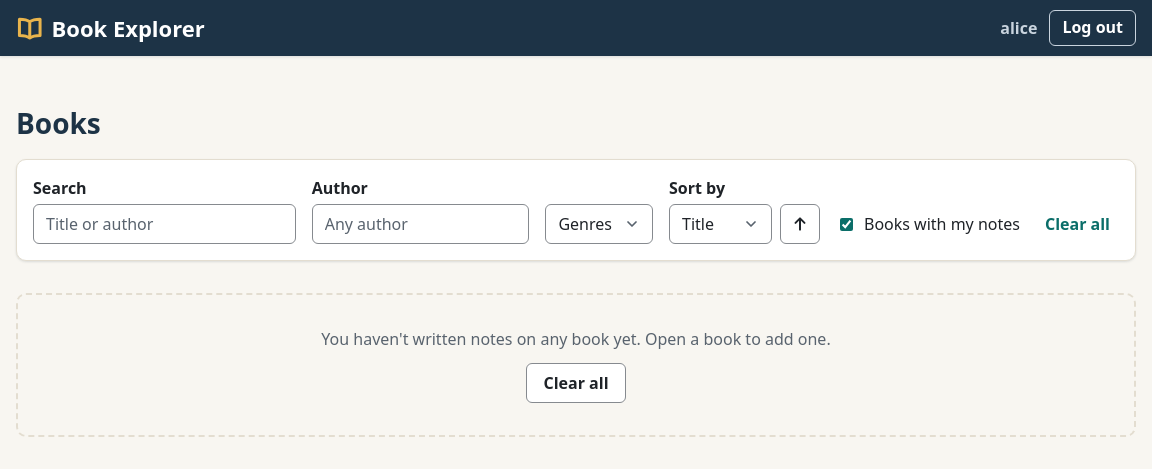
a reader with no notes who lists only noted books is told how to add one
Click the 2nd button "Clear all" at point(576, 383), box [526, 363, 626, 403]
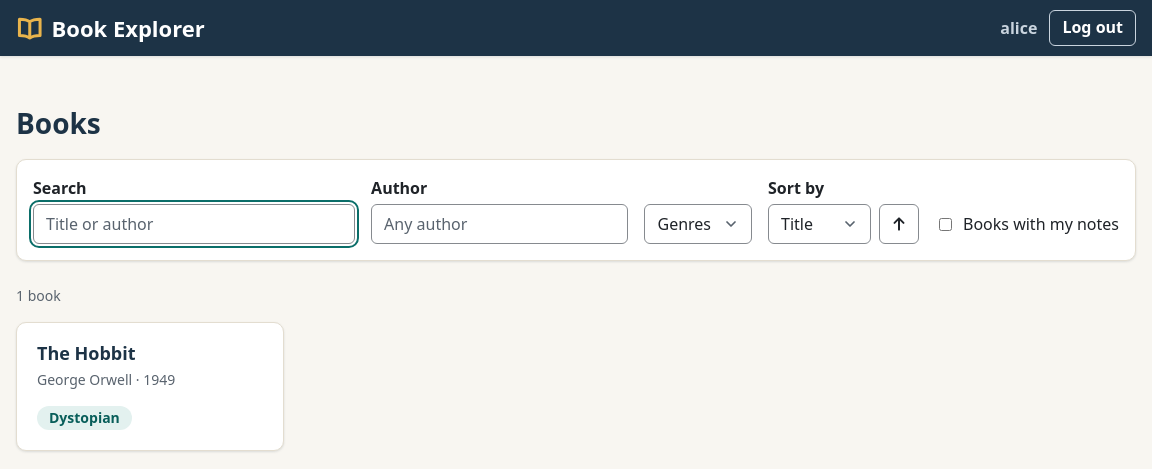
Now the link "The Hobbit" is shown, box [37, 341, 136, 365]
